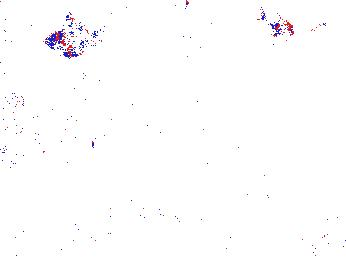X-ray fish: (44, 24, 100, 55)
red belly glassfish: (260, 8, 295, 38), (302, 18, 327, 42)
